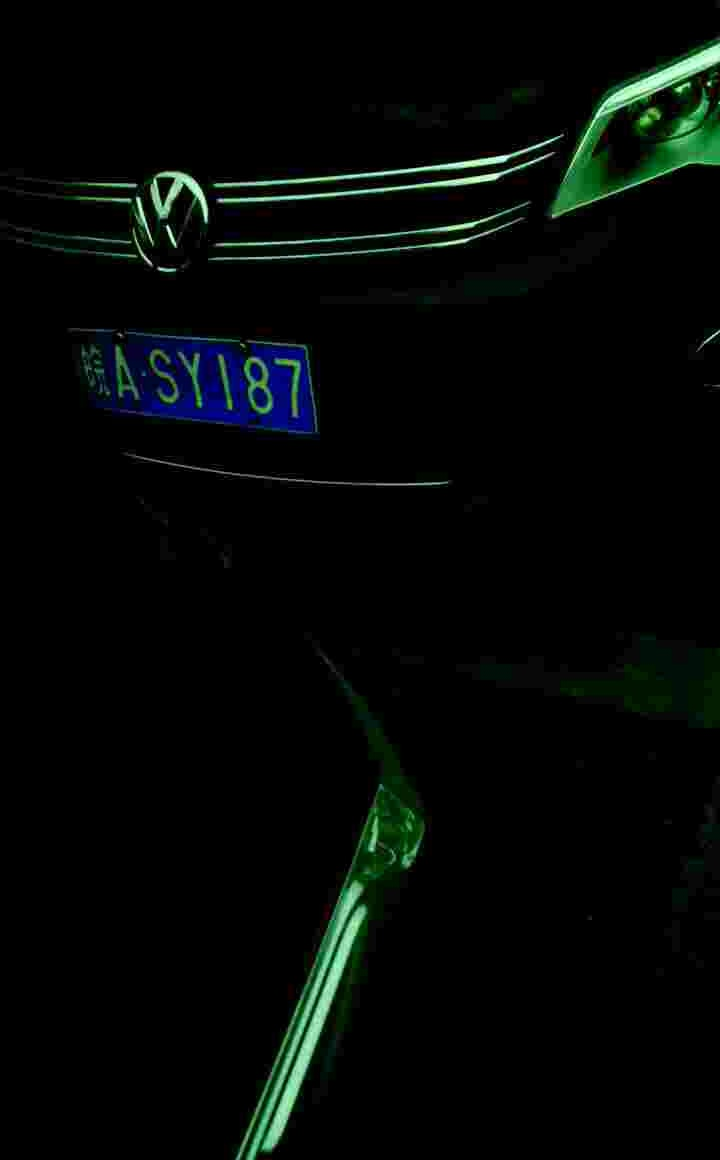plate: (82, 323, 308, 437)
